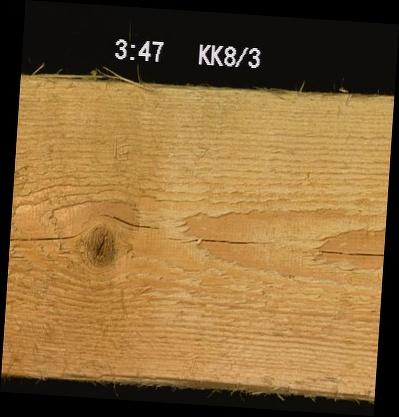sound_knot: (79, 224, 119, 270)
split: (10, 228, 80, 244), (97, 211, 160, 228), (163, 237, 273, 245), (318, 250, 383, 256)
wave: (43, 374, 374, 396)
